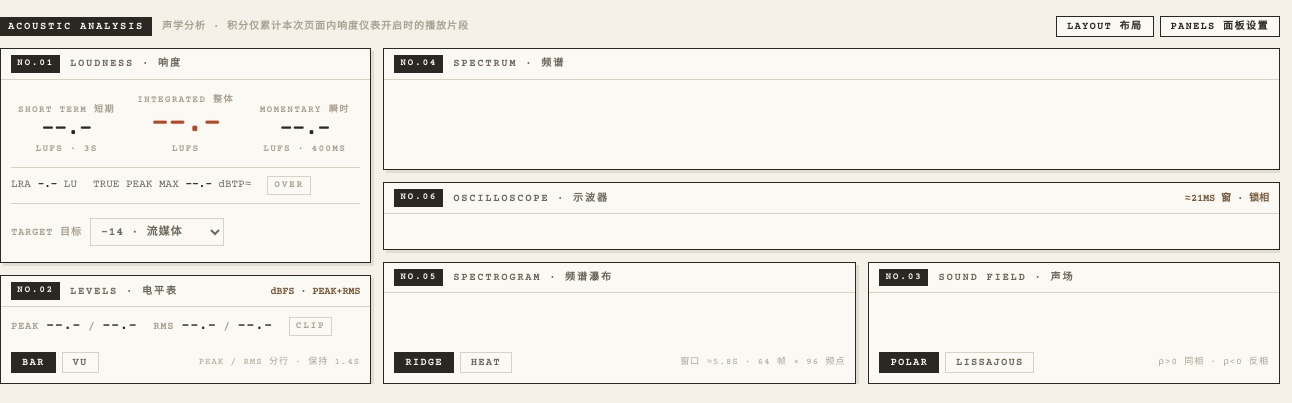
Test: AnalysisPage 布局编辑 (v0.4.9) › 宽屏点击 LAYOUT 进入图纸编辑模式
Click the button "LAYOUT 布局" at point(1105, 26), box [1056,16,1154,36]
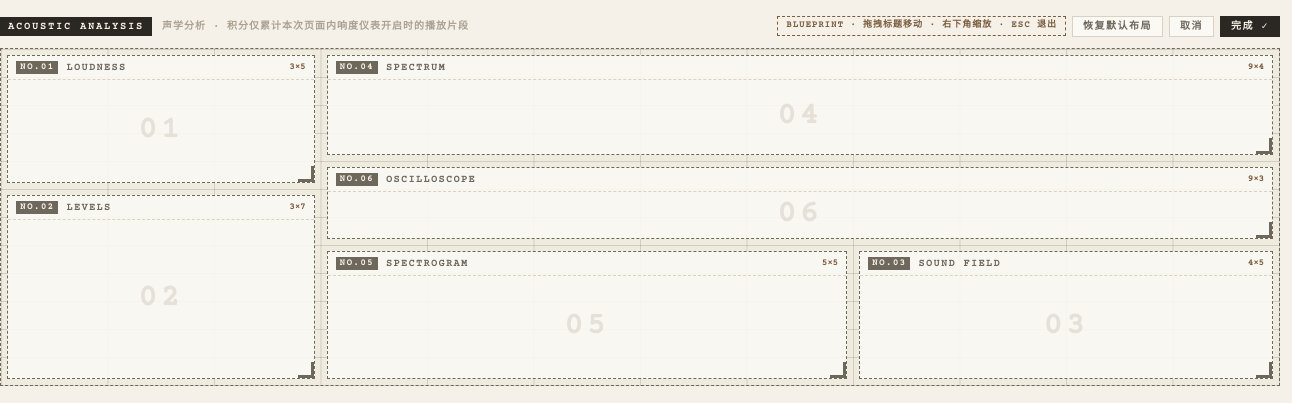
Check: the element with test id "analysis-layout-editor" is shown
Check: the button "完成 ✓" is shown, box [1220,16,1280,36]
Check: the heading "LOUDNESS · 响度" is gone
